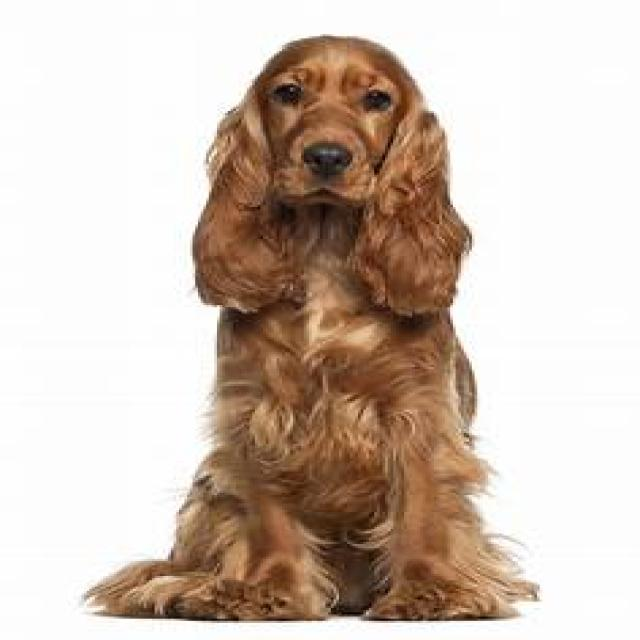KOPEK: (139, 33, 556, 620)
